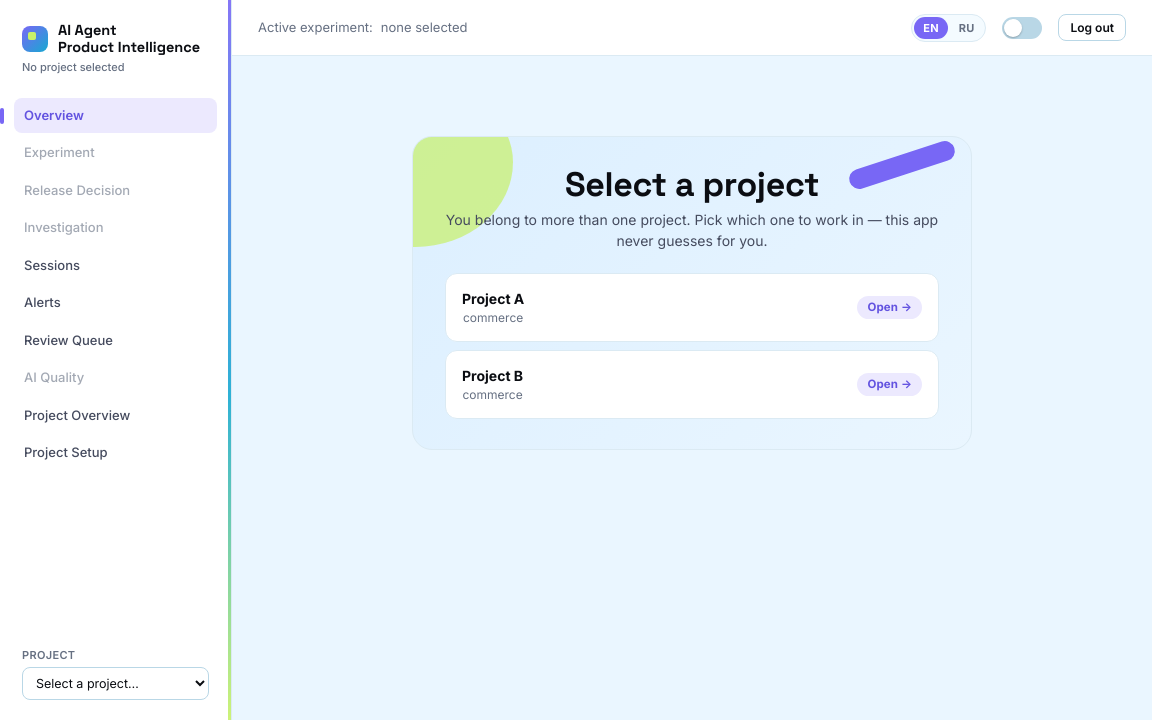
Test case: project switch race condition (Stage 17 task 1) › never requests guardrails for an experiment that belongs to the previous project
Expected: the heading "Select a project" is shown, [565,163,819,206]
Click the text "Project A" at (493, 298), box [462,290,524,307]
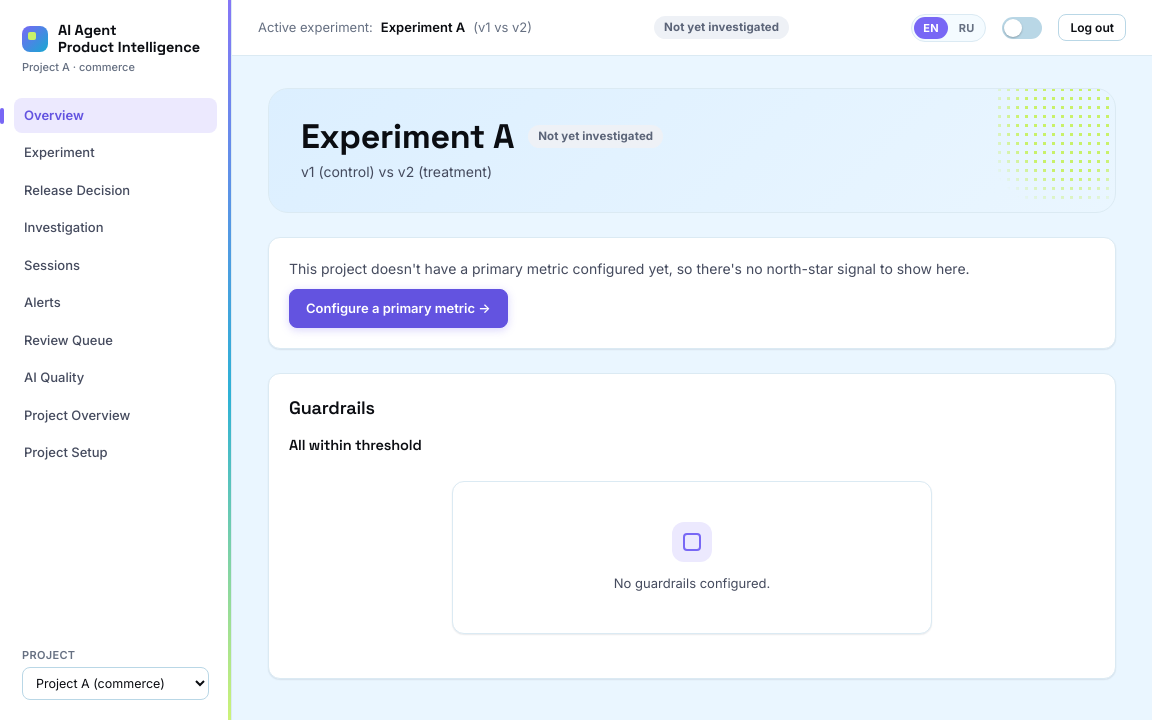
Now the heading "Experiment A" is shown, box [301,119,514,155]
Select "Project B (commerce)" in the dropdown named "Switch active project" at (116, 684), box [22,667,209,700]
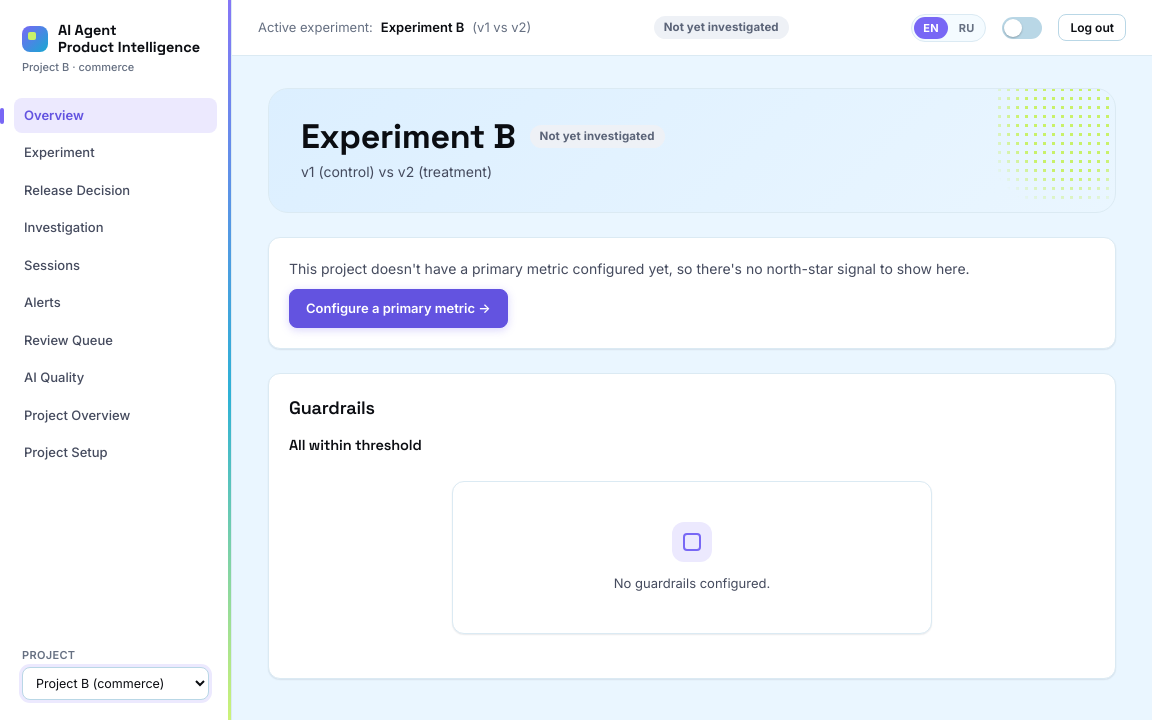
Now the heading "Experiment B" is shown, box [301,119,516,155]
